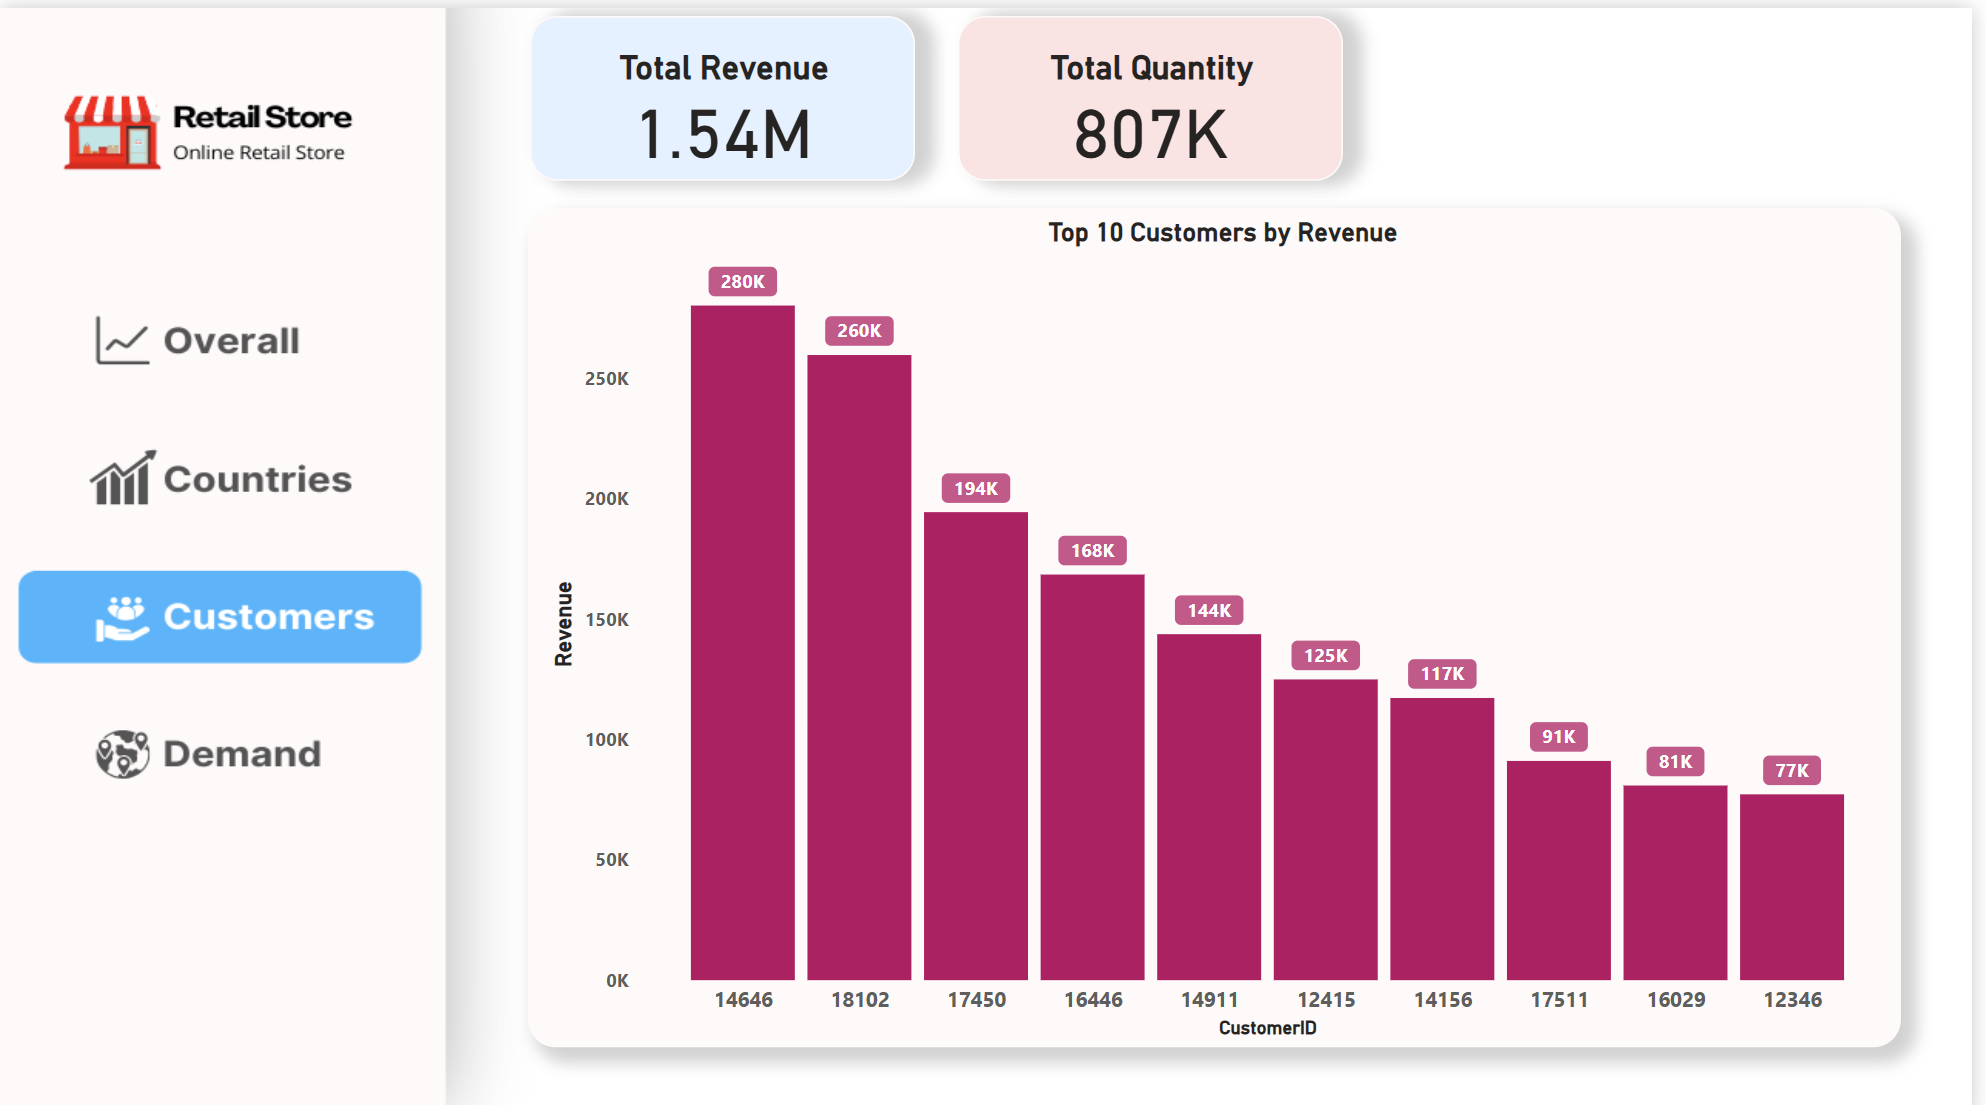

This screenshot's page, from the dashboard's own definition file:
{"tool":"powerbi","page":{"name":"Q.3","canvas":[1280,720],"ordinal":2},"visuals":[{"type":"actionButton","box":[13.3,276,261.3,60],"z":0},{"type":"actionButton","box":[13.3,454.7,261.3,60],"z":1000},{"type":"actionButton","box":[13.3,188,261.3,60],"z":2000},{"type":"clusteredColumnChart","title":"Top 10 Customers by Revenue","fields":{"Category":["Retail.CustomerID"],"Y":["Sum(Retail.Revenue)"]},"box":[343.3,130,891.7,545],"z":3000},{"type":"card","title":"Total Revenue","fields":{"Values":["Sum(Retail.Revenue)"]},"box":[344,5,250,107.1],"z":4000},{"type":"card","title":"Total Quantity","fields":{"Values":["Sum(Retail.Quantity)"]},"box":[622.6,5,250,107.1],"z":5000}]}

Visuals, with their boxes in screenshot pixels (x1, y1, x2, y2), scaled from the page's 1280x720 canvas onto the 1986x1105 screenshot:
actionButton: detection(21, 424, 426, 516)
actionButton: detection(21, 698, 426, 790)
actionButton: detection(21, 289, 426, 381)
"Top 10 Customers by Revenue" clusteredColumnChart: detection(533, 200, 1916, 1036)
"Total Revenue" card: detection(534, 8, 922, 172)
"Total Quantity" card: detection(966, 8, 1354, 172)
